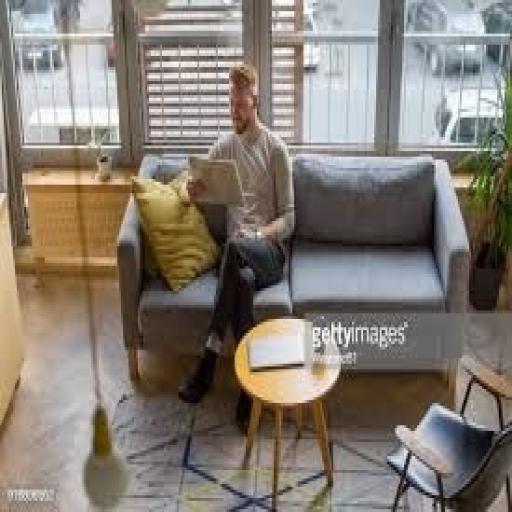sitting: (175, 59, 296, 414)
